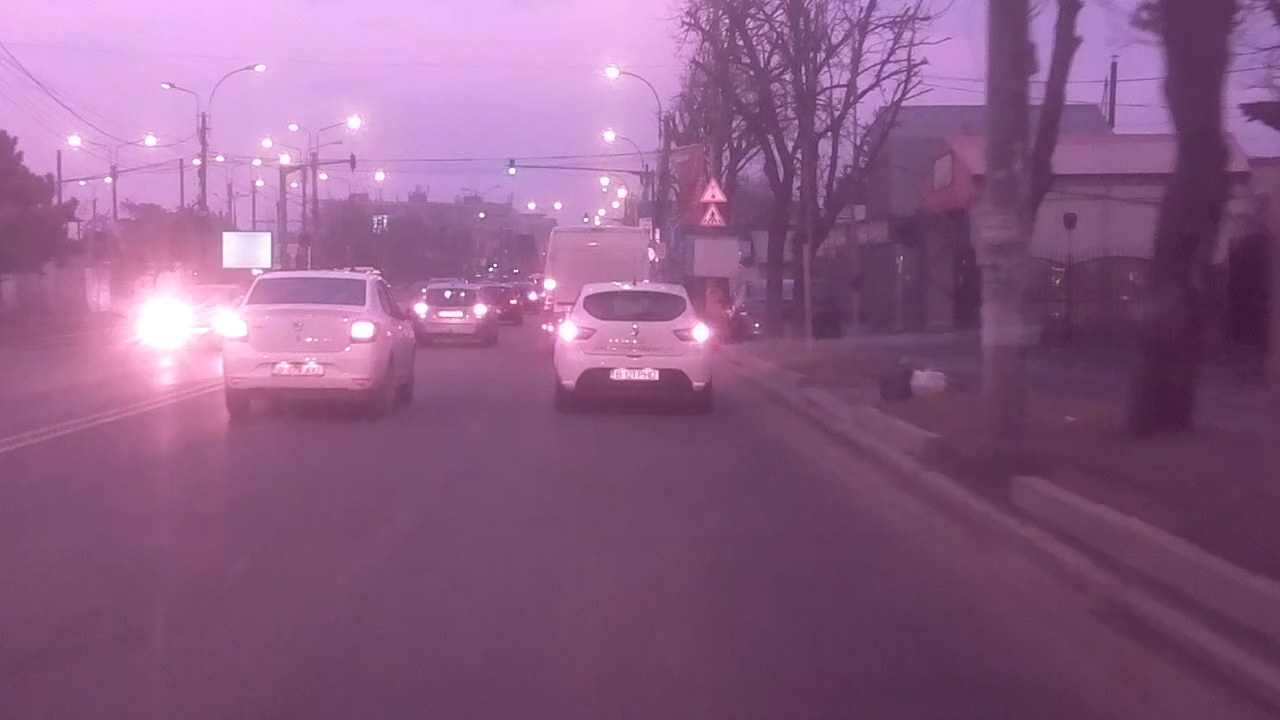license-plate: (608, 367, 662, 382)
